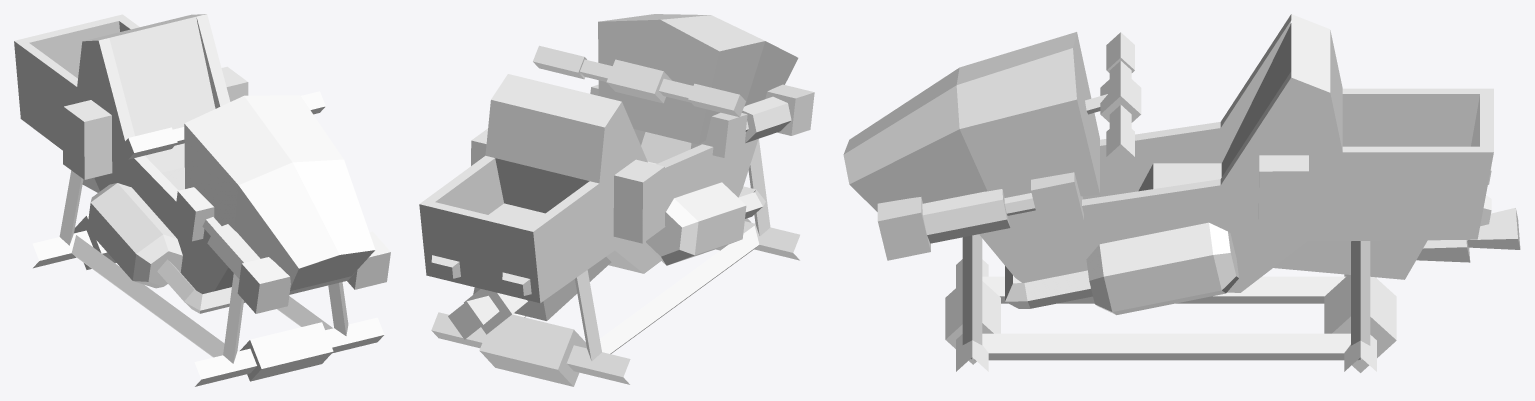
Rendered from Truck 1 Body.glb.
3 views of the same model, side by side, from view 1: azimuth 30°, elevation 25°; view 2: azimuth 150°, elevation 25°; view 3: azimuth 270°, elevation 25° (orthographic). The views are drawn at different scales.
Visible parts, largest first — view 1: body, interior; view 2: body, interior; view 3: body, interior.
Boxes of the visible parts, left/top/right/bottom form: body: left=14, top=14, right=375, bottom=293; interior: left=33, top=16, right=390, bottom=386; body: left=419, top=14, right=798, bottom=303; interior: left=431, top=45, right=814, bottom=386; body: left=843, top=14, right=1493, bottom=315; interior: left=877, top=23, right=1520, bottom=372.
Size of the model in its own units: 1.88 by 2.39 by 4.81.
Materials: 1 (1 with a texture image).
